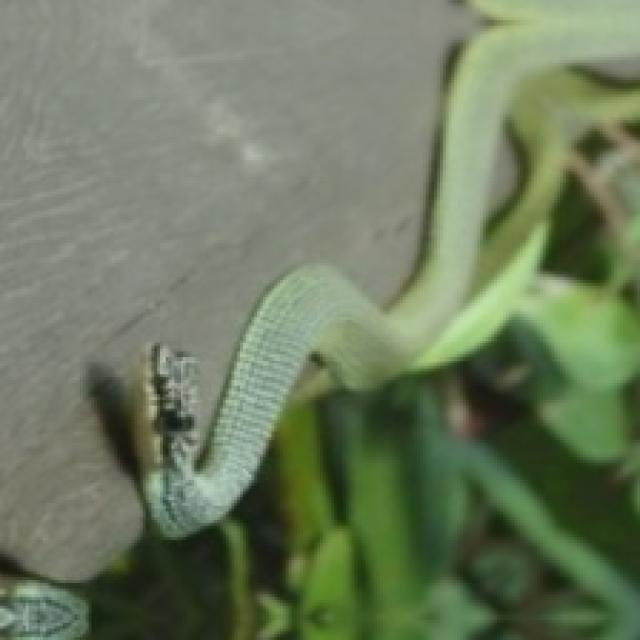paradise tree snake: (137, 0, 637, 534)
